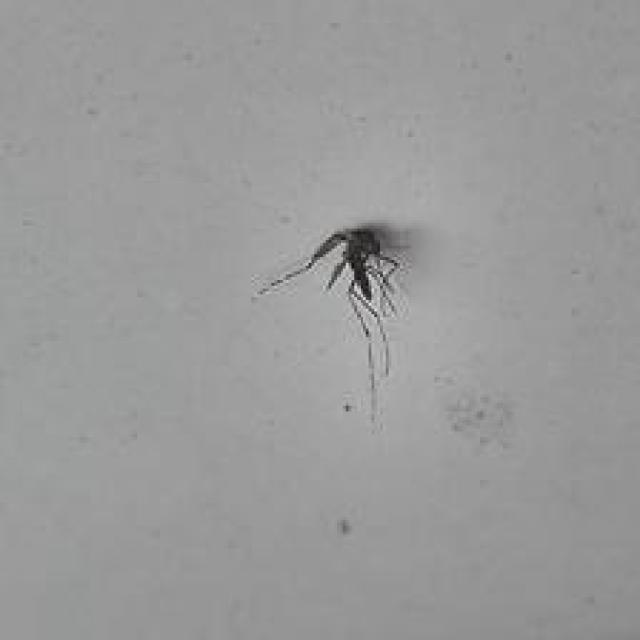Aedes albopictus: (253, 223, 413, 426)
